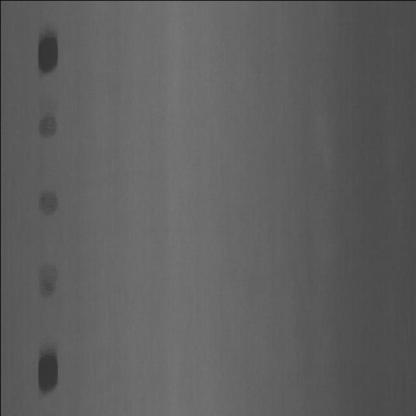oil_spot: (34, 22, 65, 83), (31, 345, 64, 401), (34, 258, 62, 309), (34, 107, 66, 147), (34, 185, 62, 221)
